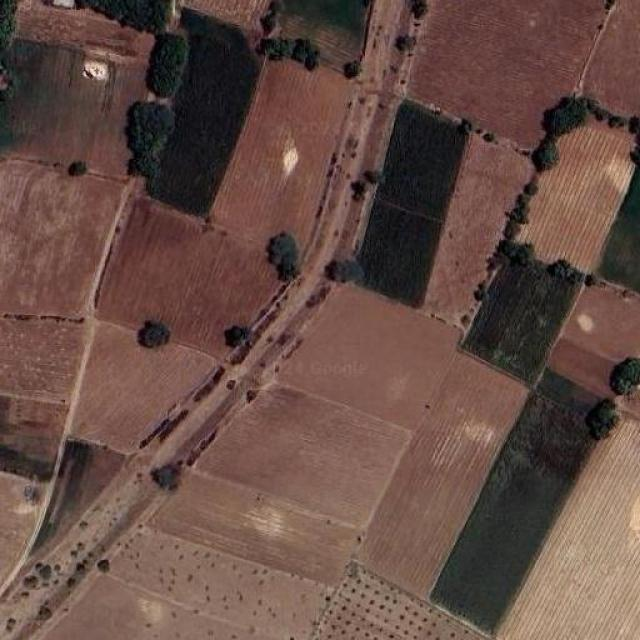land-Sx1C: (431, 372, 594, 631), (358, 351, 528, 597), (494, 391, 640, 640), (408, 0, 640, 151), (44, 526, 332, 639), (498, 414, 640, 639), (198, 386, 410, 526), (99, 198, 280, 357), (210, 60, 352, 243), (279, 286, 459, 429), (111, 528, 328, 640), (149, 9, 261, 216), (151, 471, 356, 583), (358, 100, 468, 306), (421, 134, 534, 327), (71, 322, 216, 454), (0, 162, 124, 316), (9, 40, 145, 177), (516, 121, 634, 271), (518, 120, 634, 271), (462, 258, 581, 383), (41, 575, 266, 639), (312, 561, 489, 639), (32, 441, 125, 555), (548, 284, 640, 397), (549, 285, 640, 396), (14, 0, 154, 68), (0, 318, 82, 401), (276, 0, 368, 69), (0, 396, 68, 479), (599, 166, 640, 292), (181, 0, 271, 46)
